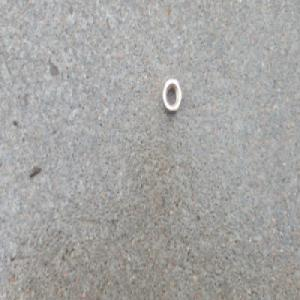Nut: (161, 80, 181, 116)
